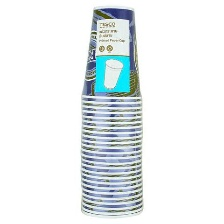paper_cup: (73, 0, 149, 222)
